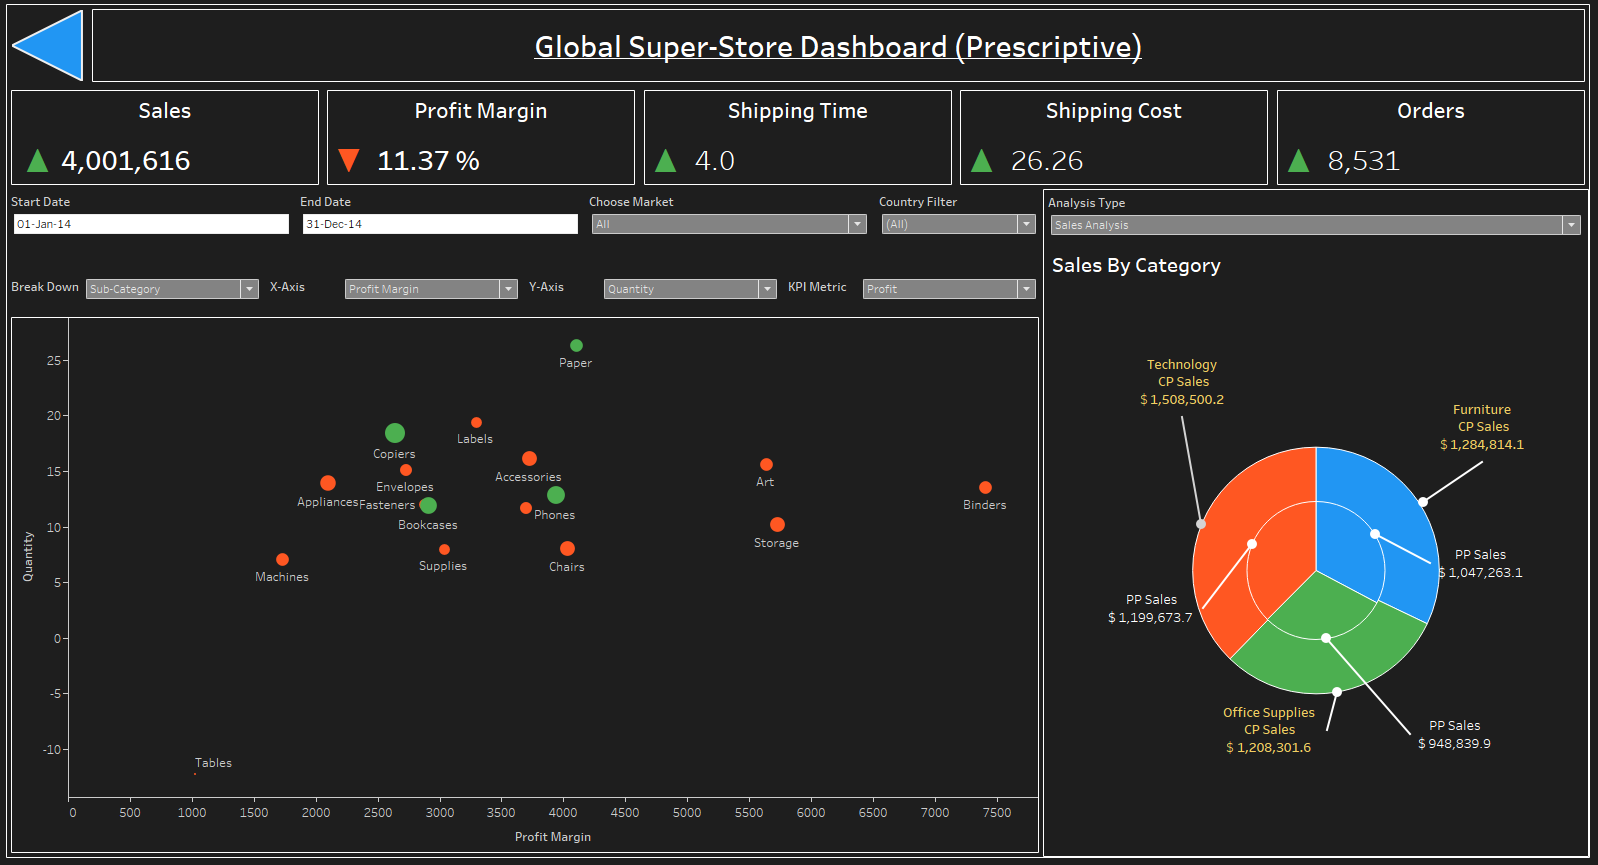

What the dashboard file says about the page in this screenshot:
{"tool":"tableau","page":{"name":"Prescriptive","canvas":[1000,1000],"units":"permille","ordinal":1},"visuals":[{"type":"worksheet","title":"Descriptive arrow","mark":"Shape","box":[5.6,10.3,50.5,92.6]},{"type":"text","box":[56.1,10.3,938.3,92.6]},{"type":"worksheet","title":"Sales","mark":"Shape","box":[5.6,103,197.7,119]},{"type":"worksheet","title":"Profit Margin","mark":"Shape","box":[203.4,103,197.7,119]},{"type":"worksheet","title":"Shipping Time","mark":"Shape","box":[401.1,103,197.7,119]},{"type":"worksheet","title":"Shipping Cost","mark":"Shape","box":[598.9,103,197.7,119]},{"type":"worksheet","title":"Orders","mark":"Shape","box":[796.6,103,197.7,119]},{"type":"parameter","param":"[Parameters].[Parameter 4]","box":[5.6,221.9,180.8,95.4]},{"type":"parameter","param":"[Parameters].[Start Date (copy)_861594915472015377]","box":[186.4,221.9,180.8,95.4]},{"type":"parameter","param":"[Parameters].[Parameter 1]","box":[367.2,221.9,180.8,95.4]},{"type":"filter","title":"Analysis By Category","param":"[federated.01f76d61vm6dbi1f8phw8010wd9h].[none:Market Filter (copy)_861594915333","box":[547.9,221.9,105,95.4]},{"type":"parameter","param":"[Parameters].[Parameter 8]","box":[653.6,223.1,340.2,59.8]},{"type":"worksheet","title":"Analysis By Category","mark":"Pie","rows":["Calculation_861594915475636251","Calculation_861594915475636251"],"box":[653.6,282.8,340.2,705.7]},{"type":"parameter","param":"[Parameters].[Parameter 10]","box":[5.6,317.3,161.8,47]},{"type":"parameter","param":"[Parameters].[Parameter 9]","box":[167.5,317.3,161.8,47]},{"type":"parameter","param":"[Parameters].[X-Axis (copy)_714946453471621147]","box":[329.3,317.3,161.8,47]},{"type":"parameter","param":"[Parameters].[Y-Axis (copy)_714946453480169510]","box":[491.1,317.3,161.8,47]},{"type":"worksheet","title":"Scatter Plot","mark":"Circle","rows":["Calculation_714946453472378908"],"cols":["X-Axis (copy)_714946453483257902"],"box":[5.6,364.3,647.3,625.3]}]}

Visuals, with their boxes on the dashboard's canvas, which has no fixed pixel size, in thousandths of its width and height (x1, y1, x2, y2). These are canvas units, not pixel positions in the 1598x865 screenshot, which may show the page scaled, cropped or inside an application window:
"Descriptive arrow" worksheet (Shape marks): locate(6, 10, 56, 103)
text: locate(56, 10, 994, 103)
"Sales" worksheet (Shape marks): locate(6, 103, 203, 222)
"Profit Margin" worksheet (Shape marks): locate(203, 103, 401, 222)
"Shipping Time" worksheet (Shape marks): locate(401, 103, 599, 222)
"Shipping Cost" worksheet (Shape marks): locate(599, 103, 797, 222)
"Orders" worksheet (Shape marks): locate(797, 103, 994, 222)
parameter: locate(6, 222, 186, 317)
parameter: locate(186, 222, 367, 317)
parameter: locate(367, 222, 548, 317)
"Analysis By Category" filter: locate(548, 222, 653, 317)
parameter: locate(654, 223, 994, 283)
"Analysis By Category" worksheet (Pie marks): locate(654, 283, 994, 988)
parameter: locate(6, 317, 167, 364)
parameter: locate(168, 317, 329, 364)
parameter: locate(329, 317, 491, 364)
parameter: locate(491, 317, 653, 364)
"Scatter Plot" worksheet (Circle marks): locate(6, 364, 653, 990)
